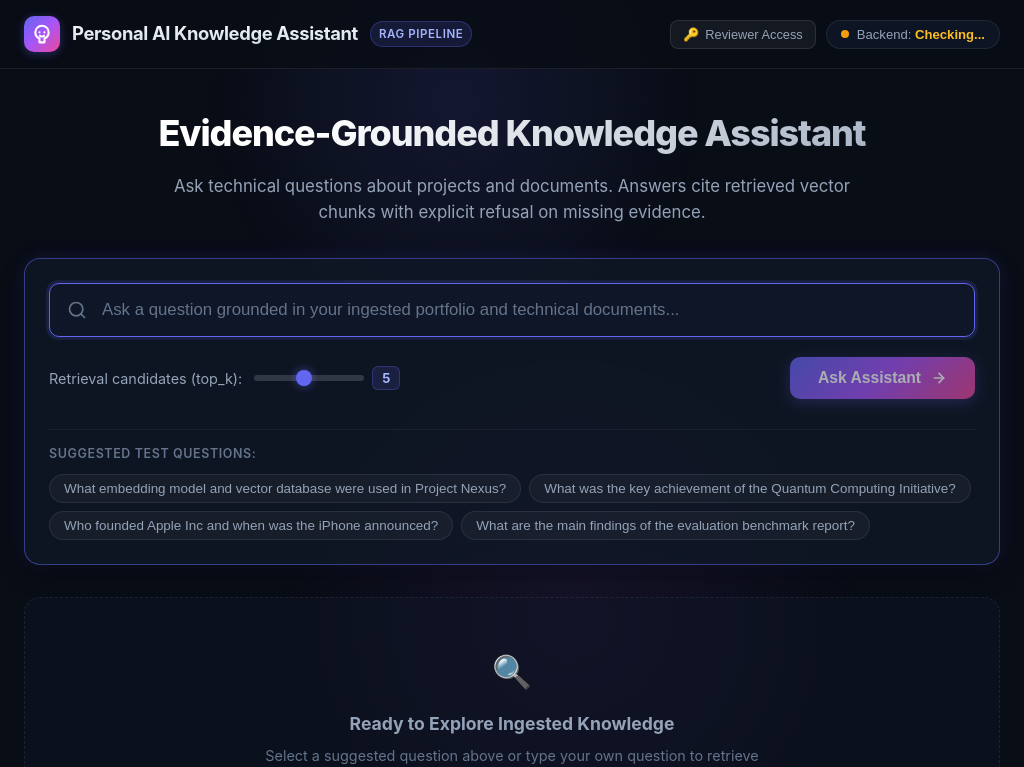
Frontend UI Application (app/page.tsx) › safely renders model and document text containing HTML/script tags without injection
Replace the text in the field with test id "search-input" with "Security test" at (512, 310), box [49, 283, 975, 337]
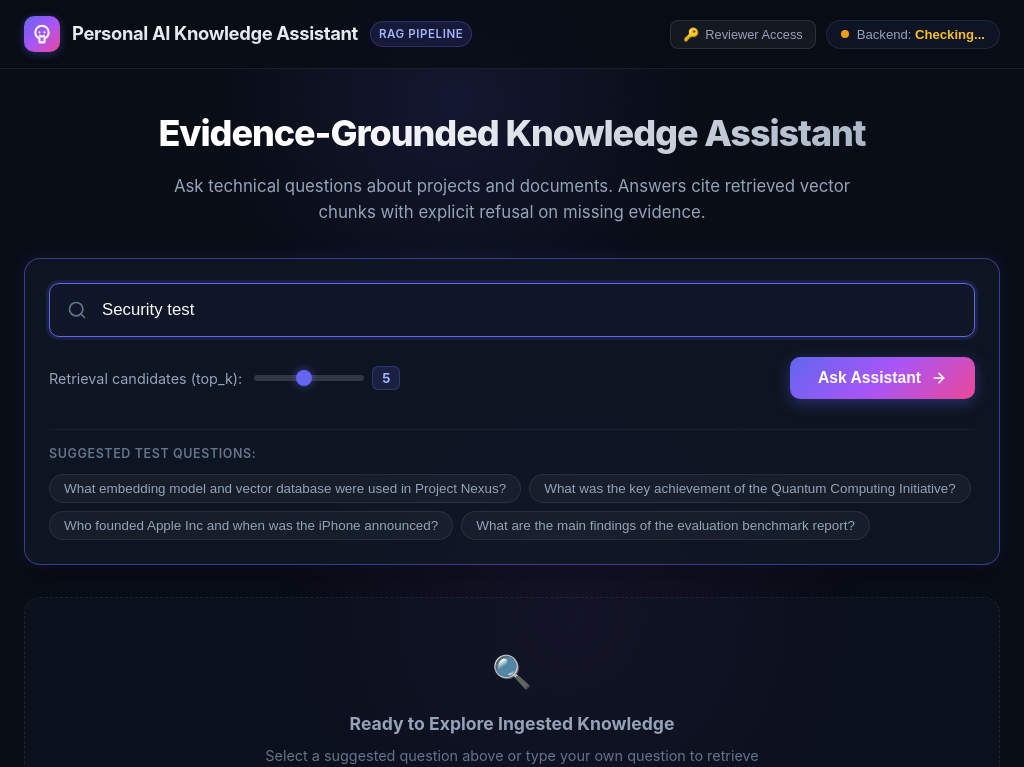
Click the button with test id "submit-btn" at (882, 378), box [790, 357, 975, 399]
(page scrolled)
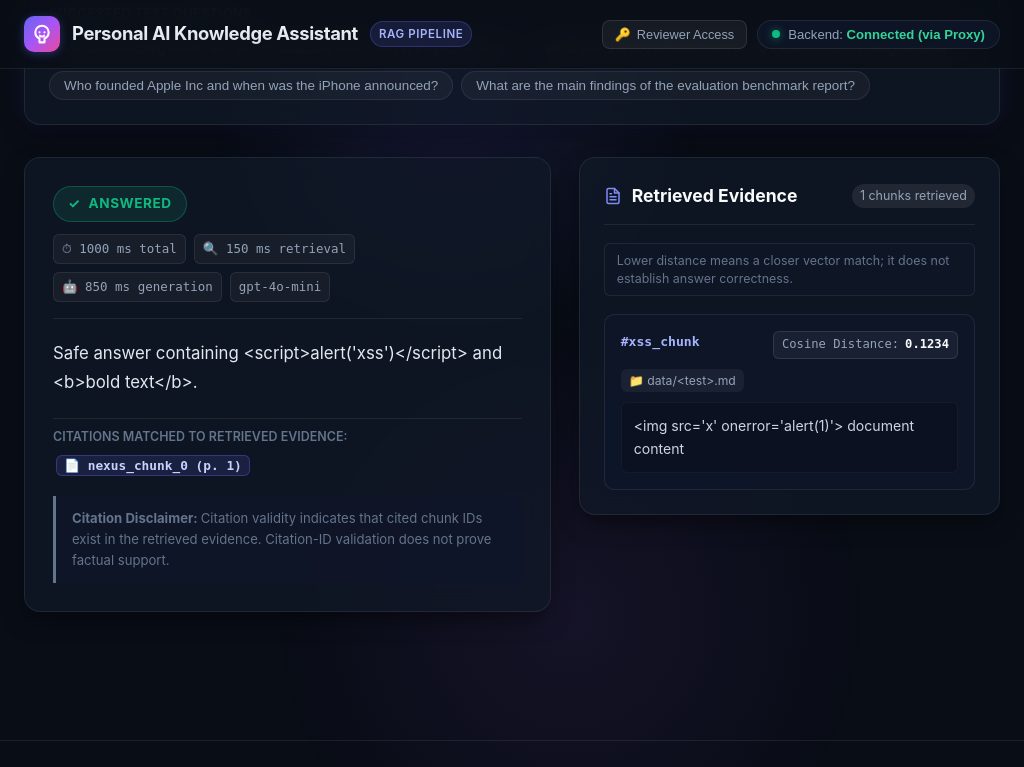
Result: the element with test id "answer-card" is shown at [24, 157, 551, 612]
